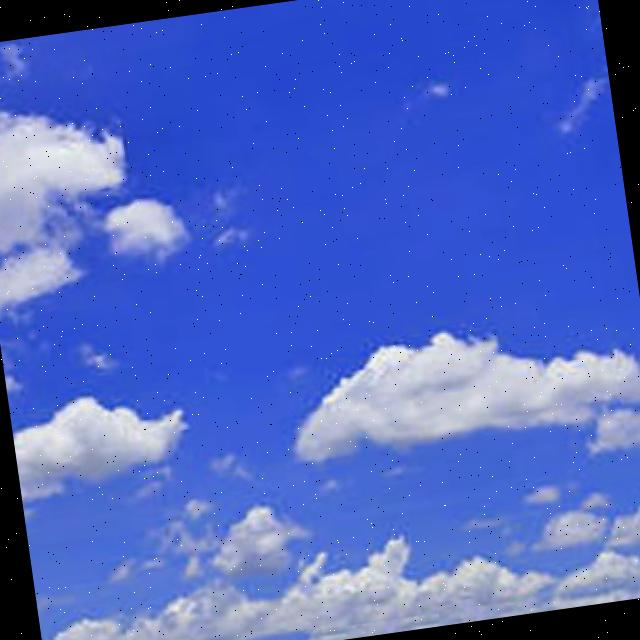Cu: (1, 34, 640, 550)
